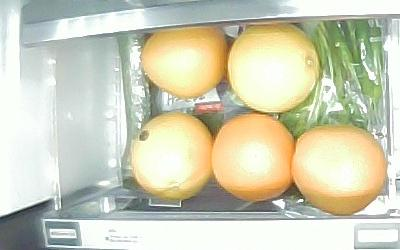grapefruit: (291, 124, 387, 216), (229, 25, 320, 112), (213, 112, 294, 205), (131, 112, 212, 202), (139, 26, 225, 98)
